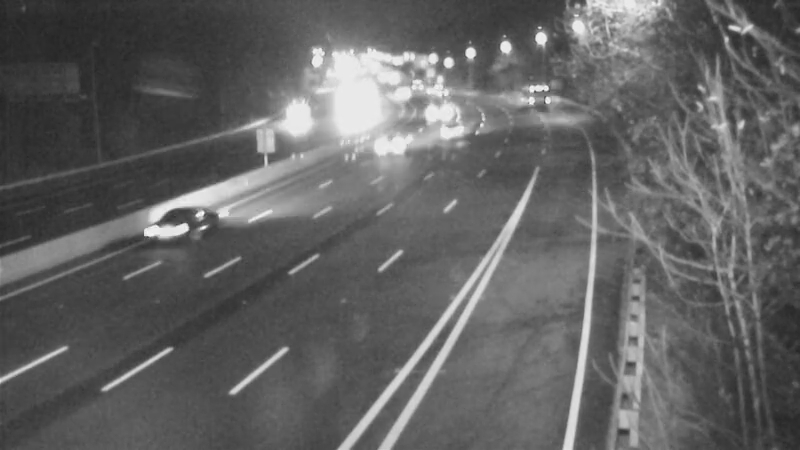vehicle: (135, 180, 215, 260), (417, 70, 467, 120), (511, 72, 561, 122), (414, 89, 464, 139), (430, 103, 480, 153), (372, 119, 422, 169), (270, 86, 320, 136)
